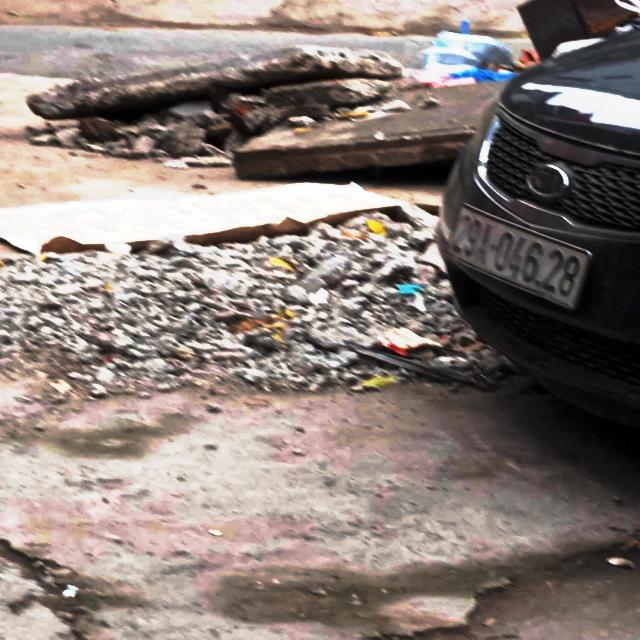license_plate: (447, 201, 598, 313)
